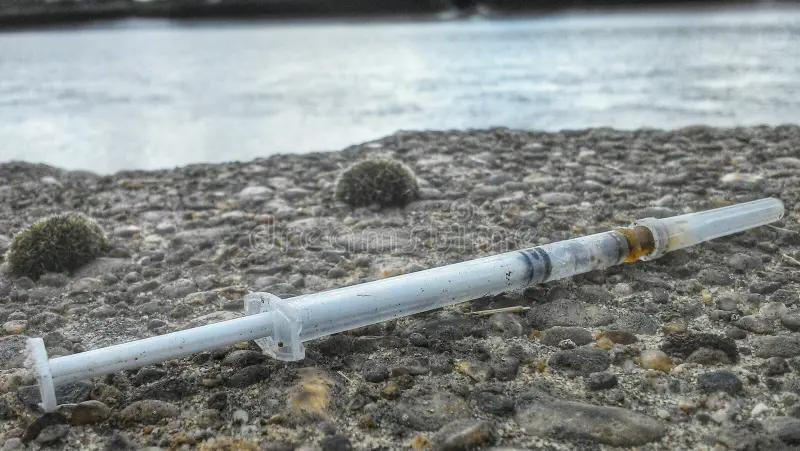Syringe: (28, 198, 783, 410)
